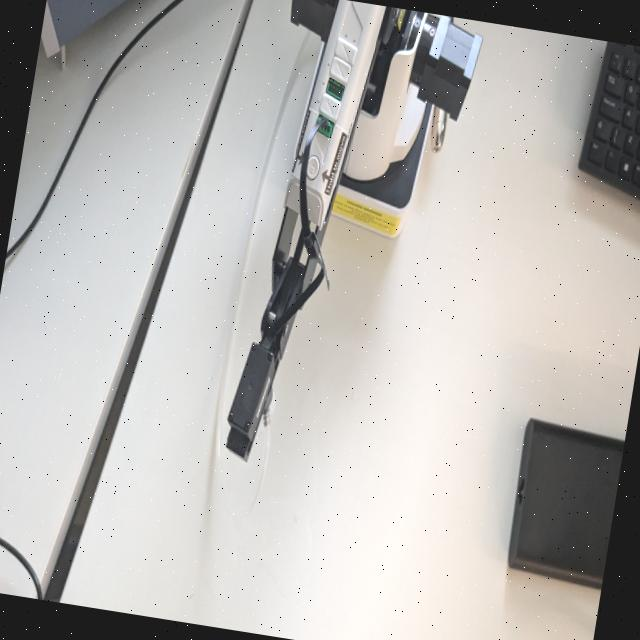Robot-end-effector-HF8z: (219, 333, 287, 472)
